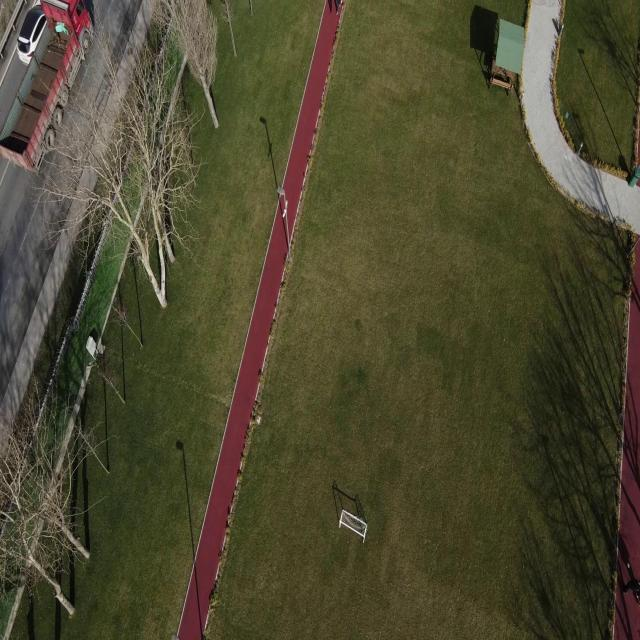p3rson: (623, 561, 640, 596)
